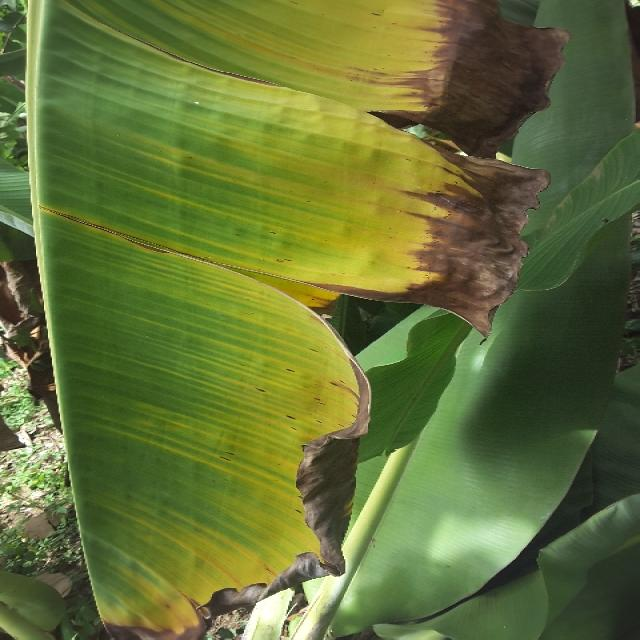Cordana: (31, 0, 472, 640)
